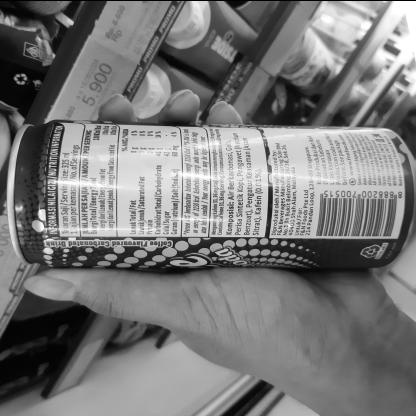alumunium_can: (3, 122, 412, 264)
